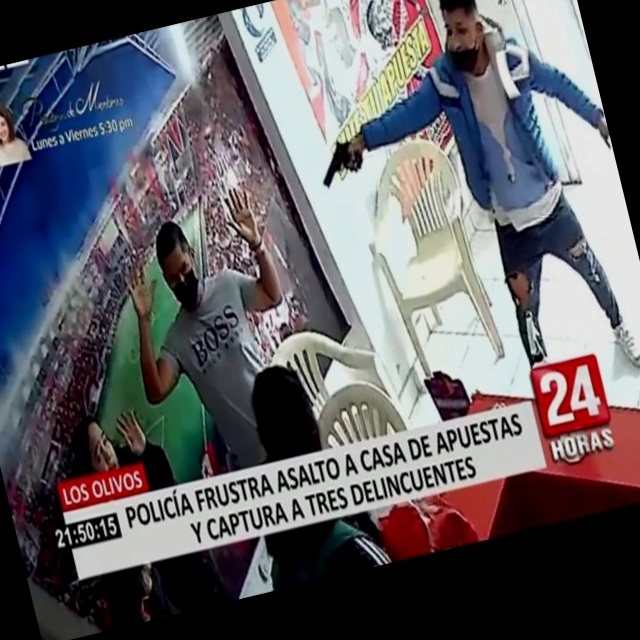gun: (304, 121, 375, 205)
